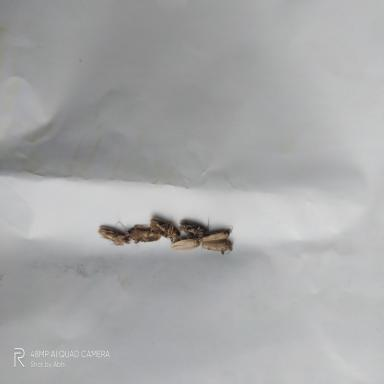pbw: (116, 221, 161, 250), (150, 218, 180, 242), (98, 225, 131, 246), (179, 218, 210, 238), (199, 225, 233, 241), (201, 240, 234, 255), (171, 236, 201, 250)
